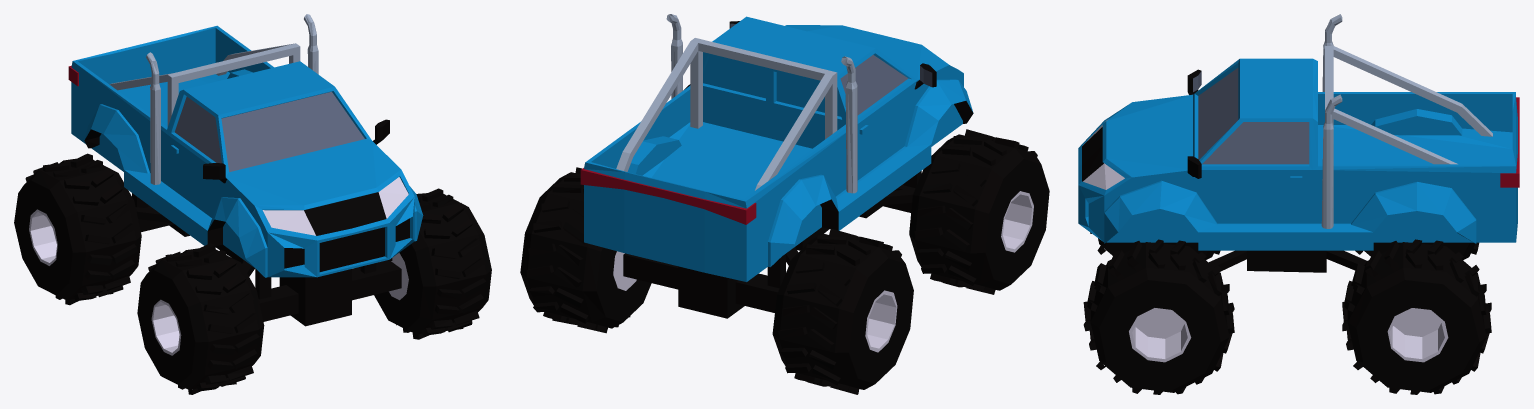
File: monster-truck-rgsdev.glb
3 views of the same model, side by side, from view 1: azimuth 30°, elevation 25°; view 2: azimuth 150°, elevation 25°; view 3: azimuth 270°, elevation 25° (orthographic). The views are drawn at different scales.
Parts seen in each view (by area): view 1: monster-truck-rgsdev; view 2: monster-truck-rgsdev; view 3: monster-truck-rgsdev.
Part boxes in pixels (bbox=[...]): monster-truck-rgsdev: bbox=[14, 14, 491, 394]; monster-truck-rgsdev: bbox=[520, 14, 1049, 394]; monster-truck-rgsdev: bbox=[1078, 14, 1519, 394].
Bounding box in the file's own units: 447 × 373 × 549.
